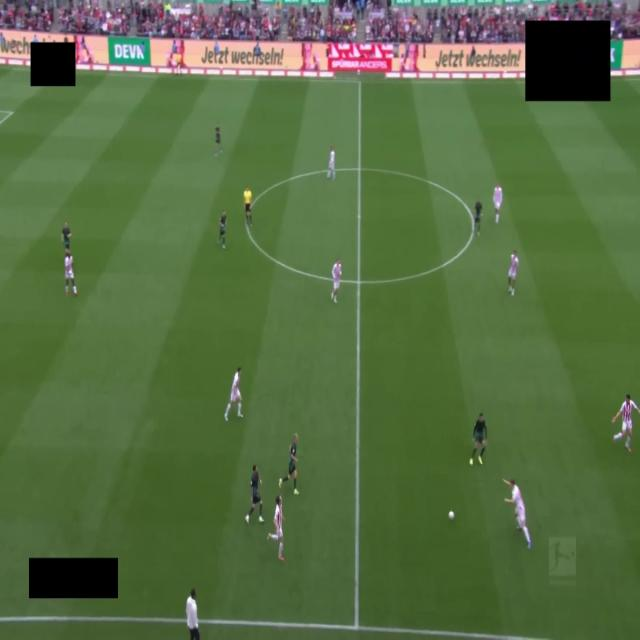ball: (449, 512, 454, 520)
player: (504, 480, 531, 548), (612, 394, 639, 452), (279, 433, 298, 495), (268, 496, 284, 562), (245, 465, 263, 523), (225, 367, 243, 421), (470, 413, 487, 465), (65, 249, 77, 296), (508, 250, 518, 295), (331, 260, 341, 303), (493, 184, 502, 223), (218, 210, 226, 248), (474, 200, 482, 236), (327, 146, 335, 180), (61, 222, 71, 249), (215, 126, 222, 156)
referee: (243, 186, 252, 227)
